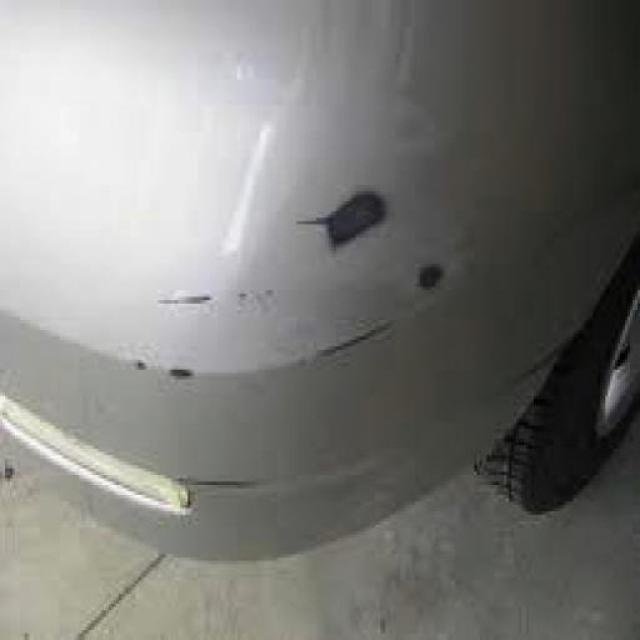car damage: (319, 185, 403, 251), (307, 316, 395, 366), (126, 350, 205, 386), (235, 281, 281, 307), (155, 291, 215, 309), (413, 267, 447, 297)
